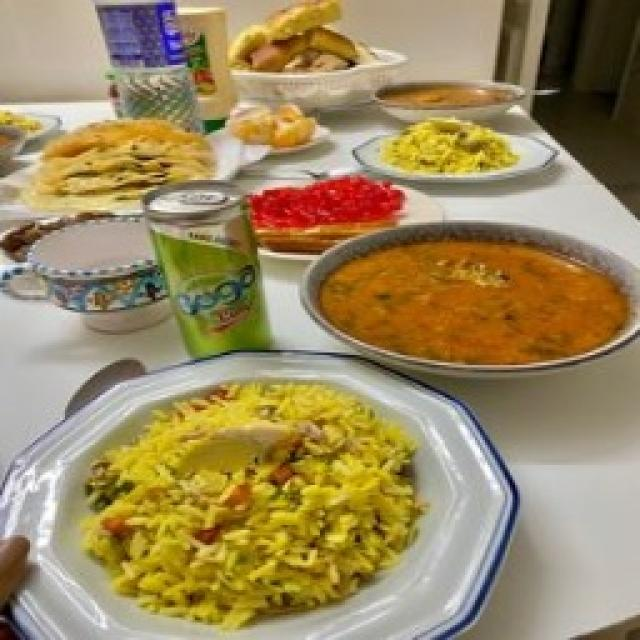Brik: (24, 119, 212, 212)
